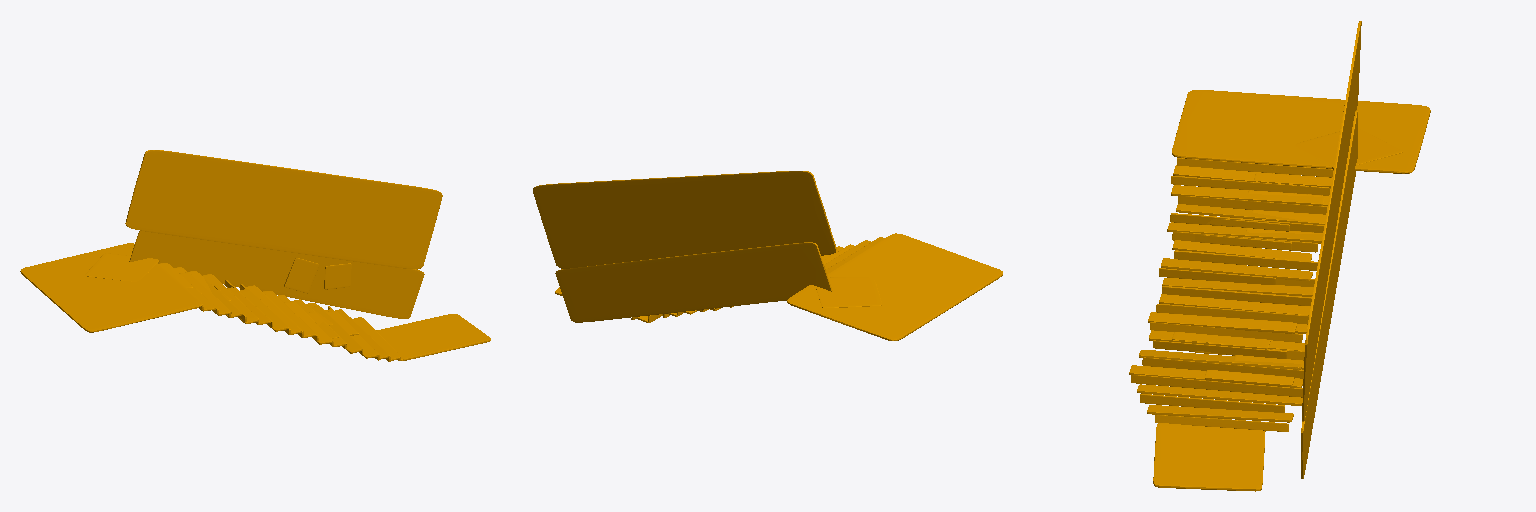
The robot description file, URDF, robot "scene":
<?xml version='1.0' encoding='utf-8'?>
<robot name="scene"><link name="scene_link"><visual><origin xyz="0.000000 0.000000 0.000000" rpy="0.000000 -0.000000 0.000000" /><geometry><mesh filename="part_000.obj" /></geometry></visual><collision><origin xyz="0.000000 0.000000 0.000000" rpy="0.000000 -0.000000 0.000000" /><geometry><mesh filename="part_000.obj" /></geometry></collision><visual><origin xyz="0.000000 0.000000 0.000000" rpy="0.000000 -0.000000 0.000000" /><geometry><mesh filename="part_001.obj" /></geometry></visual><collision><origin xyz="0.000000 0.000000 0.000000" rpy="0.000000 -0.000000 0.000000" /><geometry><mesh filename="part_001.obj" /></geometry></collision><visual><origin xyz="0.000000 0.000000 0.000000" rpy="0.000000 -0.000000 0.000000" /><geometry><mesh filename="part_002.obj" /></geometry></visual><collision><origin xyz="0.000000 0.000000 0.000000" rpy="0.000000 -0.000000 0.000000" /><geometry><mesh filename="part_002.obj" /></geometry></collision><visual><origin xyz="0.000000 0.000000 0.000000" rpy="0.000000 -0.000000 0.000000" /><geometry><mesh filename="part_003.obj" /></geometry></visual><collision><origin xyz="0.000000 0.000000 0.000000" rpy="0.000000 -0.000000 0.000000" /><geometry><mesh filename="part_003.obj" /></geometry></collision><visual><origin xyz="0.000000 0.000000 0.000000" rpy="0.000000 -0.000000 0.000000" /><geometry><mesh filename="part_004.obj" /></geometry></visual><collision><origin xyz="0.000000 0.000000 0.000000" rpy="0.000000 -0.000000 0.000000" /><geometry><mesh filename="part_004.obj" /></geometry></collision><visual><origin xyz="0.000000 0.000000 0.000000" rpy="0.000000 -0.000000 0.000000" /><geometry><mesh filename="part_005.obj" /></geometry></visual><collision><origin xyz="0.000000 0.000000 0.000000" rpy="0.000000 -0.000000 0.000000" /><geometry><mesh filename="part_005.obj" /></geometry></collision><visual><origin xyz="0.000000 0.000000 0.000000" rpy="0.000000 -0.000000 0.000000" /><geometry><mesh filename="part_006.obj" /></geometry></visual><collision><origin xyz="0.000000 0.000000 0.000000" rpy="0.000000 -0.000000 0.000000" /><geometry><mesh filename="part_006.obj" /></geometry></collision><visual><origin xyz="0.000000 0.000000 0.000000" rpy="0.000000 -0.000000 0.000000" /><geometry><mesh filename="part_007.obj" /></geometry></visual><collision><origin xyz="0.000000 0.000000 0.000000" rpy="0.000000 -0.000000 0.000000" /><geometry><mesh filename="part_007.obj" /></geometry></collision><visual><origin xyz="0.000000 0.000000 0.000000" rpy="0.000000 -0.000000 0.000000" /><geometry><mesh filename="part_008.obj" /></geometry></visual><collision><origin xyz="0.000000 0.000000 0.000000" rpy="0.000000 -0.000000 0.000000" /><geometry><mesh filename="part_008.obj" /></geometry></collision><visual><origin xyz="0.000000 0.000000 0.000000" rpy="0.000000 -0.000000 0.000000" /><geometry><mesh filename="part_009.obj" /></geometry></visual><collision><origin xyz="0.000000 0.000000 0.000000" rpy="0.000000 -0.000000 0.000000" /><geometry><mesh filename="part_009.obj" /></geometry></collision><visual><origin xyz="0.000000 0.000000 0.000000" rpy="0.000000 -0.000000 0.000000" /><geometry><mesh filename="part_010.obj" /></geometry></visual><collision><origin xyz="0.000000 0.000000 0.000000" rpy="0.000000 -0.000000 0.000000" /><geometry><mesh filename="part_010.obj" /></geometry></collision><visual><origin xyz="0.000000 0.000000 0.000000" rpy="0.000000 -0.000000 0.000000" /><geometry><mesh filename="part_011.obj" /></geometry></visual><collision><origin xyz="0.000000 0.000000 0.000000" rpy="0.000000 -0.000000 0.000000" /><geometry><mesh filename="part_011.obj" /></geometry></collision><visual><origin xyz="0.000000 0.000000 0.000000" rpy="0.000000 -0.000000 0.000000" /><geometry><mesh filename="part_012.obj" /></geometry></visual><collision><origin xyz="0.000000 0.000000 0.000000" rpy="0.000000 -0.000000 0.000000" /><geometry><mesh filename="part_012.obj" /></geometry></collision><visual><origin xyz="0.000000 0.000000 0.000000" rpy="0.000000 -0.000000 0.000000" /><geometry><mesh filename="part_013.obj" /></geometry></visual><collision><origin xyz="0.000000 0.000000 0.000000" rpy="0.000000 -0.000000 0.000000" /><geometry><mesh filename="part_013.obj" /></geometry></collision><visual><origin xyz="0.000000 0.000000 0.000000" rpy="0.000000 -0.000000 0.000000" /><geometry><mesh filename="part_014.obj" /></geometry></visual><collision><origin xyz="0.000000 0.000000 0.000000" rpy="0.000000 -0.000000 0.000000" /><geometry><mesh filename="part_014.obj" /></geometry></collision><visual><origin xyz="0.000000 0.000000 0.000000" rpy="0.000000 -0.000000 0.000000" /><geometry><mesh filename="part_015.obj" /></geometry></visual><collision><origin xyz="0.000000 0.000000 0.000000" rpy="0.000000 -0.000000 0.000000" /><geometry><mesh filename="part_015.obj" /></geometry></collision><visual><origin xyz="0.000000 0.000000 0.000000" rpy="0.000000 -0.000000 0.000000" /><geometry><mesh filename="part_016.obj" /></geometry></visual><collision><origin xyz="0.000000 0.000000 0.000000" rpy="0.000000 -0.000000 0.000000" /><geometry><mesh filename="part_016.obj" /></geometry></collision><visual><origin xyz="0.000000 0.000000 0.000000" rpy="0.000000 -0.000000 0.000000" /><geometry><mesh filename="part_017.obj" /></geometry></visual><collision><origin xyz="0.000000 0.000000 0.000000" rpy="0.000000 -0.000000 0.000000" /><geometry><mesh filename="part_017.obj" /></geometry></collision><visual><origin xyz="0.000000 0.000000 0.000000" rpy="0.000000 -0.000000 0.000000" /><geometry><mesh filename="part_018.obj" /></geometry></visual><collision><origin xyz="0.000000 0.000000 0.000000" rpy="0.000000 -0.000000 0.000000" /><geometry><mesh filename="part_018.obj" /></geometry></collision><visual><origin xyz="0.000000 0.000000 0.000000" rpy="0.000000 -0.000000 0.000000" /><geometry><mesh filename="part_019.obj" /></geometry></visual><collision><origin xyz="0.000000 0.000000 0.000000" rpy="0.000000 -0.000000 0.000000" /><geometry><mesh filename="part_019.obj" /></geometry></collision><visual><origin xyz="0.000000 0.000000 0.000000" rpy="0.000000 -0.000000 0.000000" /><geometry><mesh filename="part_020.obj" /></geometry></visual><collision><origin xyz="0.000000 0.000000 0.000000" rpy="0.000000 -0.000000 0.000000" /><geometry><mesh filename="part_020.obj" /></geometry></collision><visual><origin xyz="0.000000 0.000000 0.000000" rpy="0.000000 -0.000000 0.000000" /><geometry><mesh filename="part_021.obj" /></geometry></visual><collision><origin xyz="0.000000 0.000000 0.000000" rpy="0.000000 -0.000000 0.000000" /><geometry><mesh filename="part_021.obj" /></geometry></collision><visual><origin xyz="0.000000 0.000000 0.000000" rpy="0.000000 -0.000000 0.000000" /><geometry><mesh filename="part_022.obj" /></geometry></visual><collision><origin xyz="0.000000 0.000000 0.000000" rpy="0.000000 -0.000000 0.000000" /><geometry><mesh filename="part_022.obj" /></geometry></collision><visual><origin xyz="0.000000 0.000000 0.000000" rpy="0.000000 -0.000000 0.000000" /><geometry><mesh filename="part_023.obj" /></geometry></visual><collision><origin xyz="0.000000 0.000000 0.000000" rpy="0.000000 -0.000000 0.000000" /><geometry><mesh filename="part_023.obj" /></geometry></collision><visual><origin xyz="0.000000 0.000000 0.000000" rpy="0.000000 -0.000000 0.000000" /><geometry><mesh filename="part_024.obj" /></geometry></visual><collision><origin xyz="0.000000 0.000000 0.000000" rpy="0.000000 -0.000000 0.000000" /><geometry><mesh filename="part_024.obj" /></geometry></collision><visual><origin xyz="0.000000 0.000000 0.000000" rpy="0.000000 -0.000000 0.000000" /><geometry><mesh filename="part_025.obj" /></geometry></visual><collision><origin xyz="0.000000 0.000000 0.000000" rpy="0.000000 -0.000000 0.000000" /><geometry><mesh filename="part_025.obj" /></geometry></collision><visual><origin xyz="0.000000 0.000000 0.000000" rpy="0.000000 -0.000000 0.000000" /><geometry><mesh filename="part_026.obj" /></geometry></visual><collision><origin xyz="0.000000 0.000000 0.000000" rpy="0.000000 -0.000000 0.000000" /><geometry><mesh filename="part_026.obj" /></geometry></collision><visual><origin xyz="0.000000 0.000000 0.000000" rpy="0.000000 -0.000000 0.000000" /><geometry><mesh filename="part_027.obj" /></geometry></visual><collision><origin xyz="0.000000 0.000000 0.000000" rpy="0.000000 -0.000000 0.000000" /><geometry><mesh filename="part_027.obj" /></geometry></collision><visual><origin xyz="0.000000 0.000000 0.000000" rpy="0.000000 -0.000000 0.000000" /><geometry><mesh filename="part_028.obj" /></geometry></visual><collision><origin xyz="0.000000 0.000000 0.000000" rpy="0.000000 -0.000000 0.000000" /><geometry><mesh filename="part_028.obj" /></geometry></collision><visual><origin xyz="0.000000 0.000000 0.000000" rpy="0.000000 -0.000000 0.000000" /><geometry><mesh filename="part_029.obj" /></geometry></visual><collision><origin xyz="0.000000 0.000000 0.000000" rpy="0.000000 -0.000000 0.000000" /><geometry><mesh filename="part_029.obj" /></geometry></collision><visual><origin xyz="0.000000 0.000000 0.000000" rpy="0.000000 -0.000000 0.000000" /><geometry><mesh filename="part_030.obj" /></geometry></visual><collision><origin xyz="0.000000 0.000000 0.000000" rpy="0.000000 -0.000000 0.000000" /><geometry><mesh filename="part_030.obj" /></geometry></collision><visual><origin xyz="0.000000 0.000000 0.000000" rpy="0.000000 -0.000000 0.000000" /><geometry><mesh filename="part_031.obj" /></geometry></visual><collision><origin xyz="0.000000 0.000000 0.000000" rpy="0.000000 -0.000000 0.000000" /><geometry><mesh filename="part_031.obj" /></geometry></collision><visual><origin xyz="0.000000 0.000000 0.000000" rpy="0.000000 -0.000000 0.000000" /><geometry><mesh filename="part_032.obj" /></geometry></visual><collision><origin xyz="0.000000 0.000000 0.000000" rpy="0.000000 -0.000000 0.000000" /><geometry><mesh filename="part_032.obj" /></geometry></collision><visual><origin xyz="0.000000 0.000000 0.000000" rpy="0.000000 -0.000000 0.000000" /><geometry><mesh filename="part_033.obj" /></geometry></visual><collision><origin xyz="0.000000 0.000000 0.000000" rpy="0.000000 -0.000000 0.000000" /><geometry><mesh filename="part_033.obj" /></geometry></collision><visual><origin xyz="0.000000 0.000000 0.000000" rpy="0.000000 -0.000000 0.000000" /><geometry><mesh filename="part_034.obj" /></geometry></visual><collision><origin xyz="0.000000 0.000000 0.000000" rpy="0.000000 -0.000000 0.000000" /><geometry><mesh filename="part_034.obj" /></geometry></collision><visual><origin xyz="0.000000 0.000000 0.000000" rpy="0.000000 -0.000000 0.000000" /><geometry><mesh filename="part_035.obj" /></geometry></visual><collision><origin xyz="0.000000 0.000000 0.000000" rpy="0.000000 -0.000000 0.000000" /><geometry><mesh filename="part_035.obj" /></geometry></collision><visual><origin xyz="0.000000 0.000000 0.000000" rpy="0.000000 -0.000000 0.000000" /><geometry><mesh filename="part_036.obj" /></geometry></visual><collision><origin xyz="0.000000 0.000000 0.000000" rpy="0.000000 -0.000000 0.000000" /><geometry><mesh filename="part_036.obj" /></geometry></collision><visual><origin xyz="0.000000 0.000000 0.000000" rpy="0.000000 -0.000000 0.000000" /><geometry><mesh filename="part_037.obj" /></geometry></visual><collision><origin xyz="0.000000 0.000000 0.000000" rpy="0.000000 -0.000000 0.000000" /><geometry><mesh filename="part_037.obj" /></geometry></collision><visual><origin xyz="0.000000 0.000000 0.000000" rpy="0.000000 -0.000000 0.000000" /><geometry><mesh filename="part_038.obj" /></geometry></visual><collision><origin xyz="0.000000 0.000000 0.000000" rpy="0.000000 -0.000000 0.000000" /><geometry><mesh filename="part_038.obj" /></geometry></collision><visual><origin xyz="0.000000 0.000000 0.000000" rpy="0.000000 -0.000000 0.000000" /><geometry><mesh filename="part_039.obj" /></geometry></visual><collision><origin xyz="0.000000 0.000000 0.000000" rpy="0.000000 -0.000000 0.000000" /><geometry><mesh filename="part_039.obj" /></geometry></collision><visual><origin xyz="0.000000 0.000000 0.000000" rpy="0.000000 -0.000000 0.000000" /><geometry><mesh filename="part_040.obj" /></geometry></visual><collision><origin xyz="0.000000 0.000000 0.000000" rpy="0.000000 -0.000000 0.000000" /><geometry><mesh filename="part_040.obj" /></geometry></collision><visual><origin xyz="0.000000 0.000000 0.000000" rpy="0.000000 -0.000000 0.000000" /><geometry><mesh filename="part_041.obj" /></geometry></visual><collision><origin xyz="0.000000 0.000000 0.000000" rpy="0.000000 -0.000000 0.000000" /><geometry><mesh filename="part_041.obj" /></geometry></collision><visual><origin xyz="0.000000 0.000000 0.000000" rpy="0.000000 -0.000000 0.000000" /><geometry><mesh filename="part_042.obj" /></geometry></visual><collision><origin xyz="0.000000 0.000000 0.000000" rpy="0.000000 -0.000000 0.000000" /><geometry><mesh filename="part_042.obj" /></geometry></collision><visual><origin xyz="0.000000 0.000000 0.000000" rpy="0.000000 -0.000000 0.000000" /><geometry><mesh filename="part_043.obj" /></geometry></visual><collision><origin xyz="0.000000 0.000000 0.000000" rpy="0.000000 -0.000000 0.000000" /><geometry><mesh filename="part_043.obj" /></geometry></collision><visual><origin xyz="0.000000 0.000000 0.000000" rpy="0.000000 -0.000000 0.000000" /><geometry><mesh filename="part_044.obj" /></geometry></visual><collision><origin xyz="0.000000 0.000000 0.000000" rpy="0.000000 -0.000000 0.000000" /><geometry><mesh filename="part_044.obj" /></geometry></collision><visual><origin xyz="0.000000 0.000000 0.000000" rpy="0.000000 -0.000000 0.000000" /><geometry><mesh filename="part_045.obj" /></geometry></visual><collision><origin xyz="0.000000 0.000000 0.000000" rpy="0.000000 -0.000000 0.000000" /><geometry><mesh filename="part_045.obj" /></geometry></collision><visual><origin xyz="0.000000 0.000000 0.000000" rpy="0.000000 -0.000000 0.000000" /><geometry><mesh filename="part_046.obj" /></geometry></visual><collision><origin xyz="0.000000 0.000000 0.000000" rpy="0.000000 -0.000000 0.000000" /><geometry><mesh filename="part_046.obj" /></geometry></collision><visual><origin xyz="0.000000 0.000000 0.000000" rpy="0.000000 -0.000000 0.000000" /><geometry><mesh filename="part_047.obj" /></geometry></visual><collision><origin xyz="0.000000 0.000000 0.000000" rpy="0.000000 -0.000000 0.000000" /><geometry><mesh filename="part_047.obj" /></geometry></collision><visual><origin xyz="0.000000 0.000000 0.000000" rpy="0.000000 -0.000000 0.000000" /><geometry><mesh filename="part_048.obj" /></geometry></visual><collision><origin xyz="0.000000 0.000000 0.000000" rpy="0.000000 -0.000000 0.000000" /><geometry><mesh filename="part_048.obj" /></geometry></collision><visual><origin xyz="0.000000 0.000000 0.000000" rpy="0.000000 -0.000000 0.000000" /><geometry><mesh filename="part_049.obj" /></geometry></visual><collision><origin xyz="0.000000 0.000000 0.000000" rpy="0.000000 -0.000000 0.000000" /><geometry><mesh filename="part_049.obj" /></geometry></collision></link></robot>

--- Facts derived from the render (not from the file) ---
Views: 3 orthographic renders of the robot side by side, from view 1: azimuth 30°, elevation 25°; view 2: azimuth 150°, elevation 25°; view 3: azimuth 270°, elevation 25°.
Model scene with 1 links and 0 joints (none), rooted at scene_link, posed every joint at zero.
Links seen in each view (by area): view 1: scene_link; view 2: scene_link; view 3: scene_link.
Link boxes in pixels (bbox=[...]): scene_link: bbox=[20, 150, 490, 361]; scene_link: bbox=[533, 171, 1002, 340]; scene_link: bbox=[1129, 21, 1430, 491].
Size in the robot's own frame: 9.07 by 4.3 by 4.65 metres.
50 mesh visuals loaded from 50 distinct referenced files (50 OBJ).